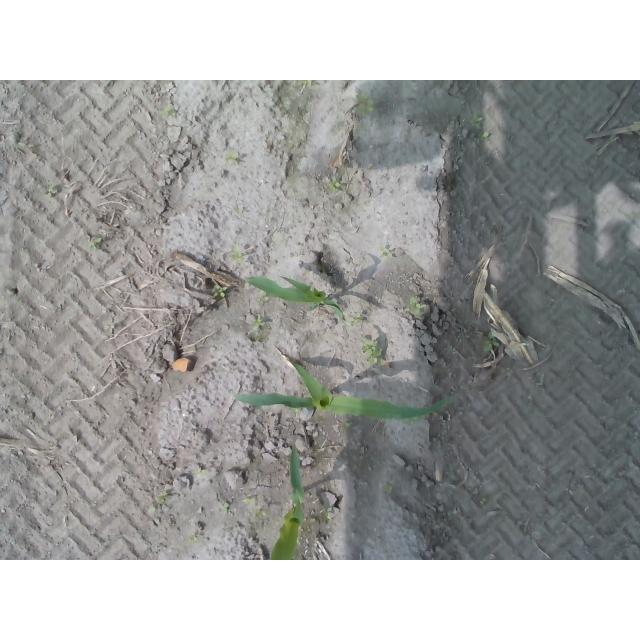Maize: (234, 358, 451, 422), (245, 275, 344, 321), (268, 442, 306, 560)
Weeds: (360, 338, 385, 366), (468, 110, 489, 139), (358, 93, 375, 115), (408, 296, 424, 315), (328, 177, 342, 192), (255, 290, 269, 305), (347, 315, 362, 328), (211, 286, 225, 299), (187, 535, 202, 547), (482, 337, 493, 352), (156, 492, 169, 504), (234, 252, 246, 265), (87, 237, 101, 248), (162, 107, 175, 118), (253, 318, 265, 329), (224, 151, 237, 161), (299, 80, 311, 89), (378, 249, 393, 256), (47, 184, 56, 195), (222, 501, 230, 511)
